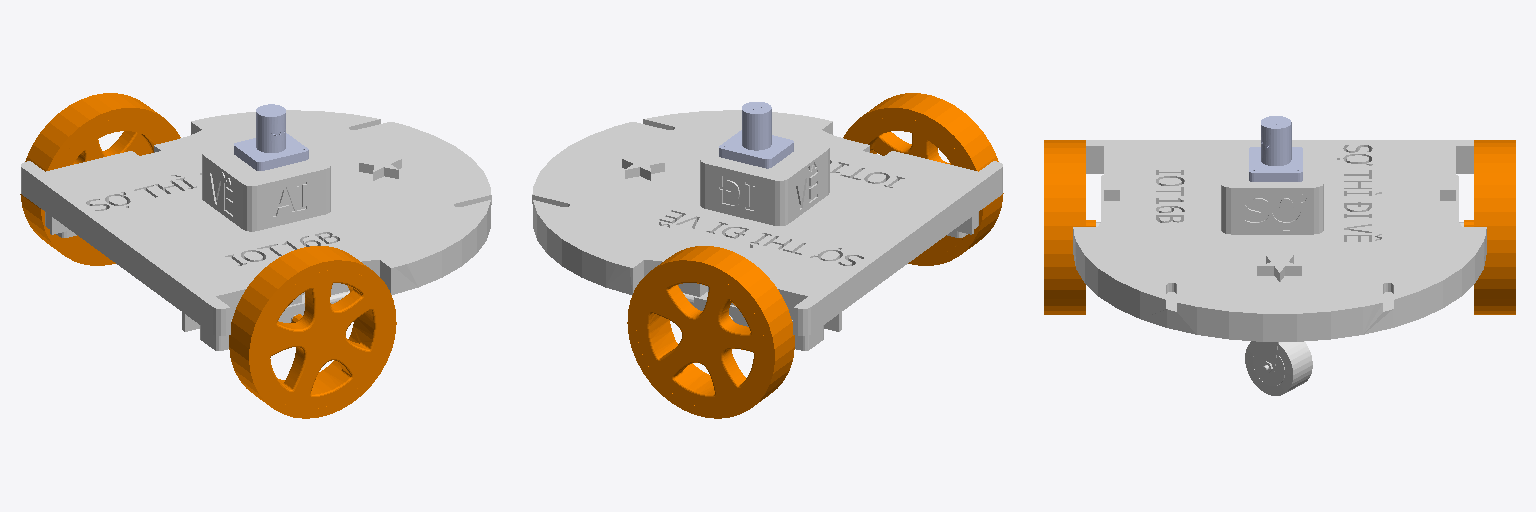
robot.urdf — ver4:
<!-- <?xml version="1.0" encoding="utf-8"?> -->
<!-- This URDF was automatically created by SolidWorks to URDF Exporter! Originally created by [author] ([email redacted]) 
     Commit Version: 1.6.0-4-g7f85cfe  Build Version: 1.6.7995.38578
     For more information, please see http://wiki.ros.org/sw_urdf_exporter -->
<robot
  name="ver4">
  <link
    name="base_link">
    <inertial>
      <origin
        xyz="-0.0222751569698722 0.0118585384555541 0.116332514439535"
        rpy="0 0 0" />
      <mass
        value="12.8783005904919" />
      <inertia
        ixx="0.110515825421358"
        ixy="-0.000215611801606853"
        ixz="0.000971112344179321"
        iyy="0.128895088615439"
        iyz="0.000357426284463578"
        izz="0.233156162778662" />
    </inertial>
    <visual>
      <origin
        xyz="0 0 0"
        rpy="0 0 0" />
      <geometry>
        <mesh
          filename="package://car_3_wheel/meshes/base_link.STL" />
      </geometry>
      <material
        name="">
        <color
          rgba="0.898039215686275 0.898039215686275 0.898039215686275 1" />
      </material>
    </visual>
    <collision>
      <origin
        xyz="0 0 0"
        rpy="0 0 0" />
      <geometry>
        <mesh
          filename="package://car_3_wheel/meshes/base_link.STL" />
      </geometry>
    </collision>
  </link>

  <gazebo reference="base_link">
    <mu1>200</mu1>
    <mu2>200</mu2>
    <kp>1000000</kp>
    <kd>1</kd>
    <material>Gazebo/Red</material>
  </gazebo>


  <link
    name="car_left">
    <inertial>
      <origin
        xyz="0.0002288419618732 -0.000132204138624934 -0.0180084261510948"
        rpy="0 0 0" />
      <mass
        value="0.579007065567467" />
      <inertia
        ixx="0.00139158331696"
        ixy="2.72612647396894E-06"
        ixz="8.85387209201048E-07"
        iyy="0.00139093173055907"
        iyz="-2.59323913956156E-07"
        izz="0.00263447481829552" />
    </inertial>
    <visual>
      <origin
        xyz="0 0 0"
        rpy="0 0 0" />
      <geometry>
        <mesh
          filename="package://car_3_wheel/meshes/car_left.STL" />
      </geometry>
      <material
        name="">
        <color
          rgba="1 0.549019607843137 0 1" />
      </material>
    </visual>
    <collision>
      <origin
        xyz="0 0 0"
        rpy="0 0 0" />
      <geometry>
        <mesh
          filename="package://car_3_wheel/meshes/car_left.STL" />
      </geometry>
    </collision>
  </link>
  <joint
    name="car_left_joint"
    type="continuous">
    <origin
      xyz="-0.095546 0.24067 0.084802"
      rpy="-1.5708 0 0" />
    <parent
      link="base_link" />
    <child
      link="car_left" />
    <axis
      xyz="0 0 1" />
    <limit
      effort="10"
      velocity="10" />
    <dynamics
      damping="0.1"
      friction="0.1" />
  </joint>

  <gazebo reference="car_left">
    <mu1>200</mu1>
    <mu2>200</mu2>
    <kp>1000000</kp>
    <kd>1</kd>
    <material>Gazebo/Black</material>
  </gazebo>

  <link
    name="car_right">
    <inertial>
      <origin
        xyz="-0.000260216250702383 -4.61723206129448E-05 0.0180084270297736"
        rpy="0 0 0" />
      <mass
        value="0.579007235319938" />
      <inertia
        ixx="0.00138975795650939"
        ixy="-2.29982712912359E-06"
        ixz="9.20726523880039E-07"
        iyy="0.00139275709100968"
        iyz="-5.8498468257902E-08"
        izz="0.00263447481829551" />
    </inertial>
    <visual>
      <origin
        xyz="0 0 0"
        rpy="0 0 0" />
      <geometry>
        <mesh
          filename="package://car_3_wheel/meshes/car_right.STL" />
      </geometry>
      <material
        name="">
        <color
          rgba="1 0.549019607843137 0 1" />
      </material>
    </visual>
    <collision>
      <origin
        xyz="0 0 0"
        rpy="0 0 0" />
      <geometry>
        <mesh
          filename="package://car_3_wheel/meshes/car_right.STL" />
      </geometry>
    </collision>
  </link>
  <joint
    name="car_right_joint"
    type="continuous">
    <origin
      xyz="-0.094611 -0.21533 0.084967"
      rpy="-1.5708 0 0" />
    <parent
      link="base_link" />
    <child
      link="car_right" />
    <axis
      xyz="0 0 1" />
    <limit
      effort="10"
      velocity="10" />
    <dynamics
      damping="0.1"
      friction="0.1" />
  </joint>

 <gazebo reference="car_right">
    <mu1>200</mu1>
    <mu2>200</mu2>
    <kp>1000000</kp>
    <kd>1</kd>
    <material>Gazebo/Black</material>
  </gazebo>


  <link
    name="caster">
    <inertial>
      <origin
        xyz="-4.287577813053E-05 -3.94517439857456E-05 -0.0229494304113731"
        rpy="0 0 0" />
      <mass
        value="0.0206098306469479" />
      <inertia
        ixx="8.96575513496906E-06"
        ixy="6.503869015188E-07"
        ixz="-1.6807849402754E-08"
        iyy="9.20046463021548E-06"
        iyz="-2.0112053676607E-08"
        izz="8.194942339049E-06" />
    </inertial>
    <visual>
      <origin
        xyz="0 0 0"
        rpy="0 0 0" />
      <geometry>
        <mesh
          filename="package://car_3_wheel/meshes/caster.STL" />
      </geometry>
      <material
        name="">
        <color
          rgba="0.898039215686275 0.898039215686275 0.898039215686275 1" />
      </material>
    </visual>
    <collision>
      <origin
        xyz="0 0 0"
        rpy="0 0 0" />
      <geometry>
        <mesh
          filename="package://car_3_wheel/meshes/caster.STL" />
      </geometry>
    </collision>
  </link>
  <joint
    name="caster_joint"
    type="continuous">
    <origin
      xyz="0.093013 0.012666 0.0995"
      rpy="0 0 0" />
    <parent
      link="base_link" />
    <child
      link="caster" />
    <axis
      xyz="0 0 1" />
    <limit
      effort="10"
      velocity="10" />
    <dynamics
      damping="0.1"
      friction="0.1" />
  </joint>

  <link
    name="caster_wheel">
    <inertial>
      <origin
        xyz="6.44417181385193E-05 -3.98464710053698E-05 -0.000118799318220368"
        rpy="0 0 0" />
      <mass
        value="0.0846021989758955" />
      <inertia
        ixx="3.34341659764486E-05"
        ixy="4.83440269761966E-08"
        ixz="-6.37637246255802E-06"
        iyy="2.57103236366154E-05"
        iyz="-3.98693510412154E-08"
        izz="3.09738148971981E-05" />
    </inertial>
    <visual>
      <origin
        xyz="0 0 0"
        rpy="0 0 0" />
      <geometry>
        <mesh
          filename="package://car_3_wheel/meshes/caster_wheel.STL" />
      </geometry>
      <material
        name="">
        <color
          rgba="0.898039215686275 0.898039215686275 0.898039215686275 1" />
      </material>
    </visual>
    <collision>
      <origin
        xyz="0 0 0"
        rpy="0 0 0" />
      <geometry>
        <mesh
          filename="package://car_3_wheel/meshes/caster_wheel.STL" />
      </geometry>
    </collision>
  </link>
  <joint
    name="caster_wheel_joint"
    type="continuous">
    <origin
      xyz="0.00084256 -0.00097103 -0.069591"
      rpy="-1.5708 0 0" />
    <parent
      link="caster" />
    <child
      link="caster_wheel" />
    <axis
      xyz="0.76732 0 -0.64126" />
    <limit
      effort="10"
      velocity="10" />
    <dynamics
      damping="0.1"
      friction="0.1" />
  </joint>

  <gazebo reference="caster_wheel">
    <mu1>200</mu1>
    <mu2>200</mu2>
    <kp>1000000</kp>
    <kd>1</kd>
    <material>Gazebo/Black</material>
  </gazebo>

  <link
    name="lidar">
    <inertial>
      <origin
        xyz="-2.83946527987154E-05 6.77241922856196E-06 -0.0331869874350902"
        rpy="0 0 0" />
      <mass
        value="0.0597622086579142" />
      <inertia
        ixx="1.46799285574346E-05"
        ixy="-1.06540819018029E-09"
        ixz="-3.50094639085274E-09"
        iyy="1.67280502569906E-05"
        iyz="-2.22634366938571E-10"
        izz="1.97717799126785E-05" />
    </inertial>
    <visual>
      <origin
        xyz="0 0 0"
        rpy="0 0 0" />
      <geometry>
        <mesh
          filename="package://car_3_wheel/meshes/lidar.STL" />
      </geometry>
      <material
        name="">
        <color
          rgba="0.792156862745098 0.819607843137255 0.933333333333333 1" />
      </material>
    </visual>
    <collision>
      <origin
        xyz="0 0 0"
        rpy="0 0 0" />
      <geometry>
        <mesh
          filename="package://car_3_wheel/meshes/lidar.STL" />
      </geometry>
    </collision>
  </link>
  <joint
    name="lidar_joint"
    type="fixed">
    <origin
      xyz="-0.025099 0.0088282 0.23"
      rpy="0 0 0" />
    <parent
      link="base_link" />
    <child
      link="lidar" />
    <axis
      xyz="0 0 0" />
    <limit
      effort="10"
      velocity="10" />
    <dynamics
      damping="0.1"
      friction="0.1" />
  </joint>
    <!-- Plugin cho Lidar -->
  <gazebo reference="lidar">
    <sensor name="lidar" type="ray">
      <always_on>true</always_on>
      <visualize>true</visualize>
      <update_rate>10</update_rate> <!-- Tăng tốc độ cập nhật -->
      <ray>
        <scan>
          <horizontal>
            <samples>180</samples> <!-- Tăng độ phân giải quét -->
            <resolution>1.0</resolution>
            <min_angle>-1.57</min_angle>
            <max_angle>1.57</max_angle>
          </horizontal>
        </scan>
        <range>
          <min>0.3</min>
          <max>20.0</max> <!-- Tăng khoảng cách tối đa -->
          <resolution>0.015</resolution>
        </range>
        <noise>
          <type>gaussian</type>
          <mean>0.0</mean>
          <stddev>0.01</stddev>
        </noise>
      </ray>
      <plugin name="scan" filename="libgazebo_ros_ray_sensor.so">
        <ros>
          <remapping>~/out:=scan</remapping>
        </ros>
        <output_type>sensor_msgs/LaserScan</output_type>
        <frame_name>lidar</frame_name>
      </plugin>
    </sensor>
    <mu1>0.01</mu1>
    <mu2>0.01</mu2>
    <material>Gazebo/Black</material>
  </gazebo>

  <!-- <gazebo reference="lidar">
    <sensor name="lidar" type="ray">
      <always_on>true</always_on>
      <visualize>true</visualize>
      <update_rate>5</update_rate>
      <ray>
        <scan>
          <horizontal>
            <samples>120</samples>
            <resolution>1.000000</resolution>
            <min_angle>-3.14159</min_angle>
            <max_angle>3.14159</max_angle>
          </horizontal>
        </scan>
        <range>
          <min>0.3</min>
          <max>15.0</max>
          <resolution>0.015</resolution>
        </range>
        <noise>
          <type>gaussian</type>
          <mean>0.0</mean>
          <stddev>0.01</stddev>
        </noise>
      </ray>
      <plugin name="scan" filename="libgazebo_ros_ray_sensor.so">
        <ros>
          <remapping>~/out:=scan</remapping>
        </ros>
        <output_type>sensor_msgs/LaserScan</output_type>
        <frame_name>lidar</frame_name>
      </plugin>
    </sensor>
  </gazebo>
  <gazebo reference="lidar">
    <mu1>0.01</mu1>
    <mu2>0.01</mu2>
    <material>Gazebo/Black</material>
  </gazebo> -->

</robot>

--- Render facts (derived) ---
The picture shows the robot from 3 angles, left to right: view 1: azimuth 30°, elevation 25°; view 2: azimuth 150°, elevation 25°; view 3: azimuth 270°, elevation 25°; orthographic projection.
Model ver4 with 6 links and 5 joints (4 continuous, 1 fixed), rooted at base_link, posed every joint at zero.
Links seen in each view (by area): view 1: base_link, car_right, car_left, lidar; view 2: base_link, car_left, car_right, lidar; view 3: base_link, car_left, car_right, lidar, caster_wheel.
Boxes of the visible links, x1,y1,x2,y2 form: base_link: (21, 110, 491, 350); car_right: (229, 246, 396, 418); car_left: (20, 93, 180, 265); lidar: (234, 104, 308, 170); base_link: (532, 110, 1002, 350); car_left: (627, 246, 794, 418); car_right: (843, 93, 1003, 265); lidar: (719, 102, 793, 168); base_link: (1073, 140, 1486, 341); car_left: (1464, 140, 1515, 314); car_right: (1044, 140, 1095, 314); lidar: (1249, 116, 1302, 181); caster_wheel: (1245, 341, 1312, 395).
Size in the robot's own frame: 0.3993 by 0.456 by 0.2304 metres.
Meshes: 6 distinct files referenced, 6 mesh visuals loaded (6 binary STL).